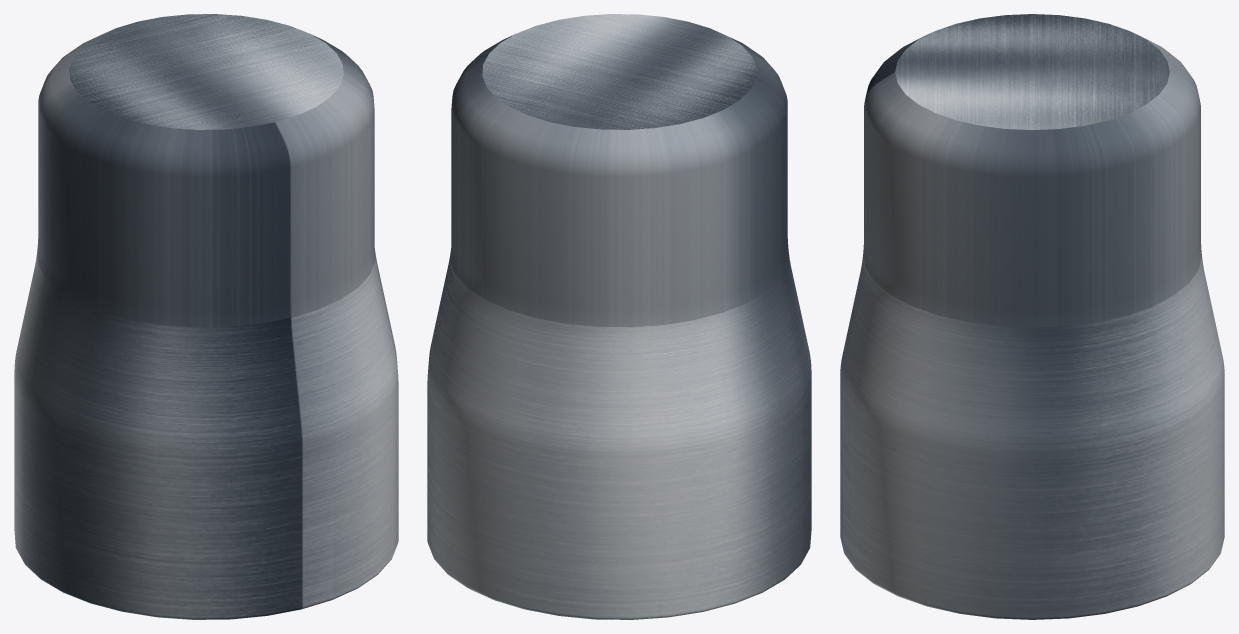
File: lamp.obj
3 renders of one model, left to right at view 1: azimuth 30°, elevation 25°; view 2: azimuth 150°, elevation 25°; view 3: azimuth 270°, elevation 25°, orthographic.
Visible parts, largest first — view 1: MeshpolySurface182; view 2: MeshpolySurface182; view 3: MeshpolySurface182.
Part boxes in pixels (bbox=[...]): MeshpolySurface182: bbox=[14, 14, 398, 619]; MeshpolySurface182: bbox=[427, 14, 811, 619]; MeshpolySurface182: bbox=[840, 14, 1224, 619].
Bounding box in the file's own units: 0.6226 × 0.836 × 0.6226.
1 material, 1 textured.
